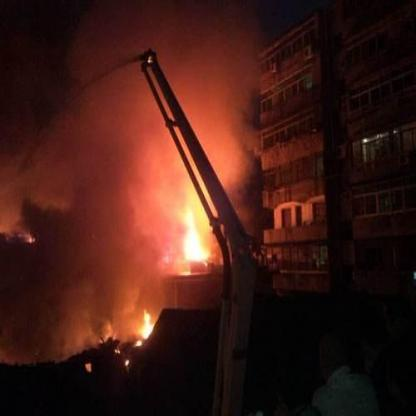fire: (160, 165, 208, 272), (129, 292, 157, 372)
smoke: (54, 24, 236, 211)
